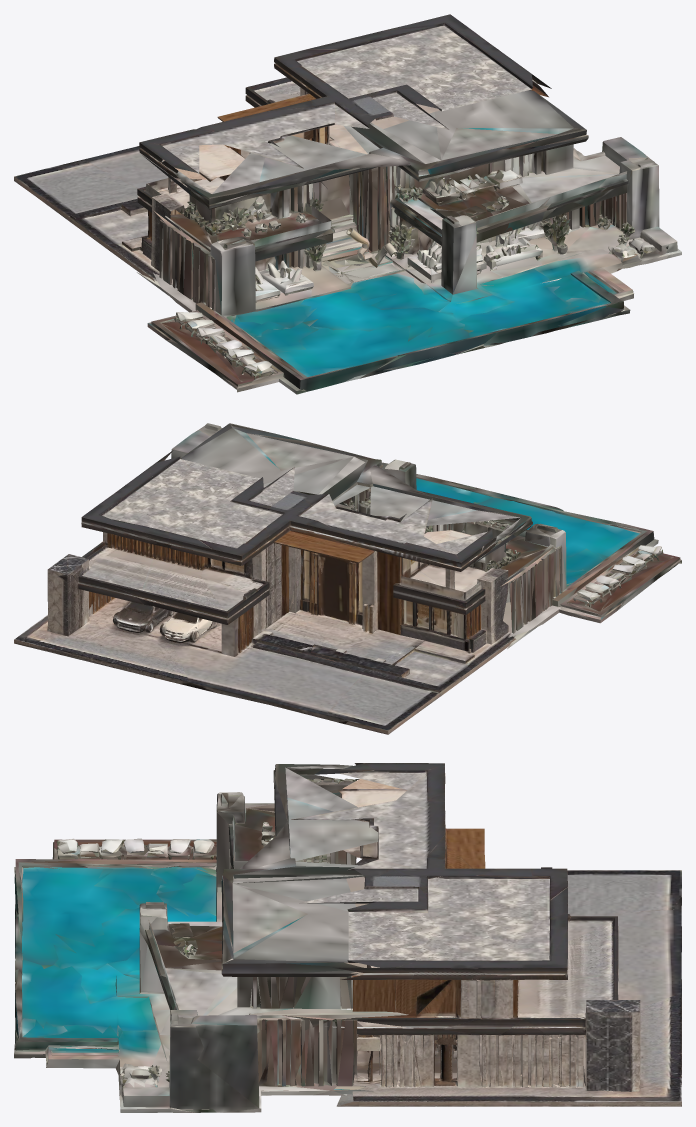
Rendered from chloe-photo.glb.
3 renders of one model, top to bottom at view 1: azimuth 30°, elevation 25°; view 2: azimuth 150°, elevation 25°; view 3: azimuth 270°, elevation 25°, orthographic. The views are drawn at different scales.
Visible parts, largest first — view 1: Mesh_0; view 2: Mesh_0; view 3: Mesh_0.
Part boxes in pixels (x1,y1,x2,y2): Mesh_0: (14, 14, 681, 394); Mesh_0: (14, 423, 681, 734); Mesh_0: (14, 763, 681, 1112).
Size of the model in its own units: 32.63 by 7.15 by 34.53.
2 materials, 2 textured.
